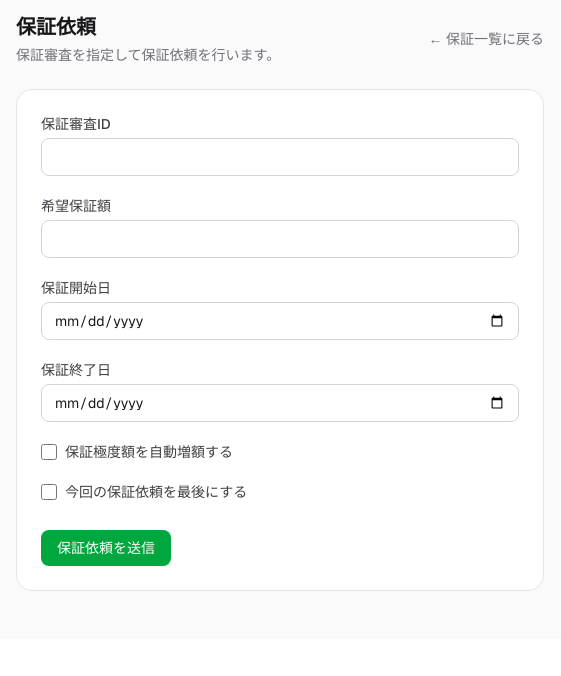
Test: GuaranteeNewPage › APIがエラーを返した場合はエラーメッセージを表示する
The image size is (561, 676).
Type "12345" into the number field labelled "保証審査ID" at (280, 157), box x1=41 y1=138 x2=519 y2=176
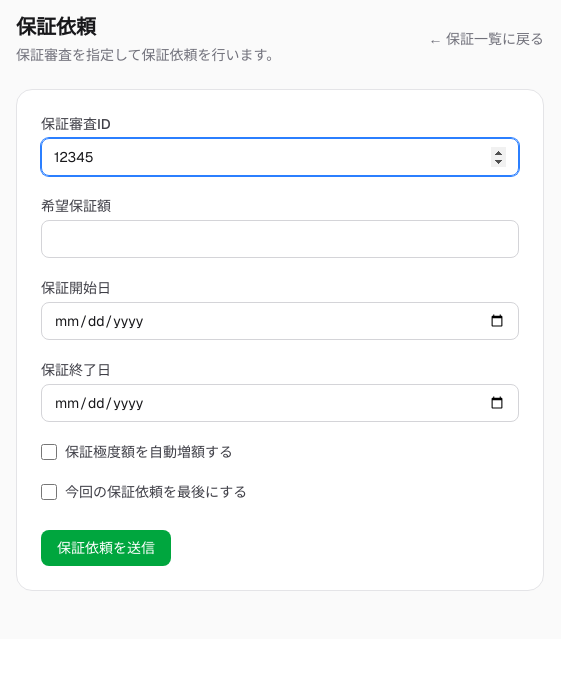
Type "1000000" into the number field labelled "希望保証額" at (280, 239), box x1=41 y1=220 x2=519 y2=258
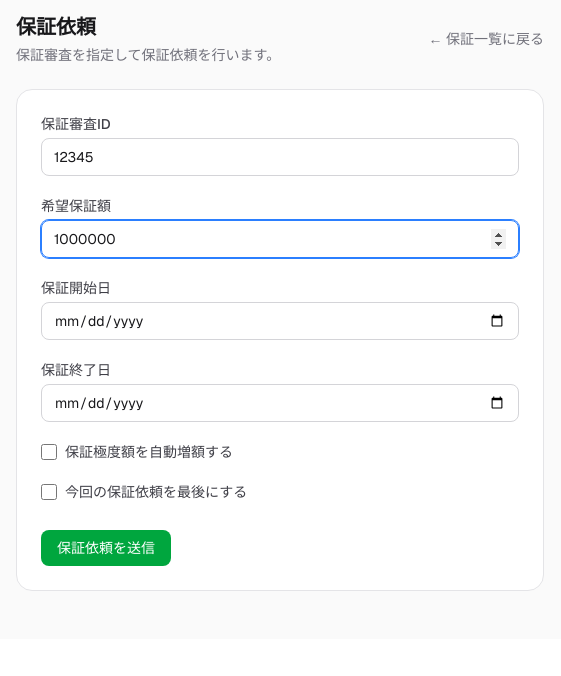
Type "2023-03-27" into the date field labelled "保証開始日" at (280, 321), box x1=41 y1=302 x2=519 y2=340
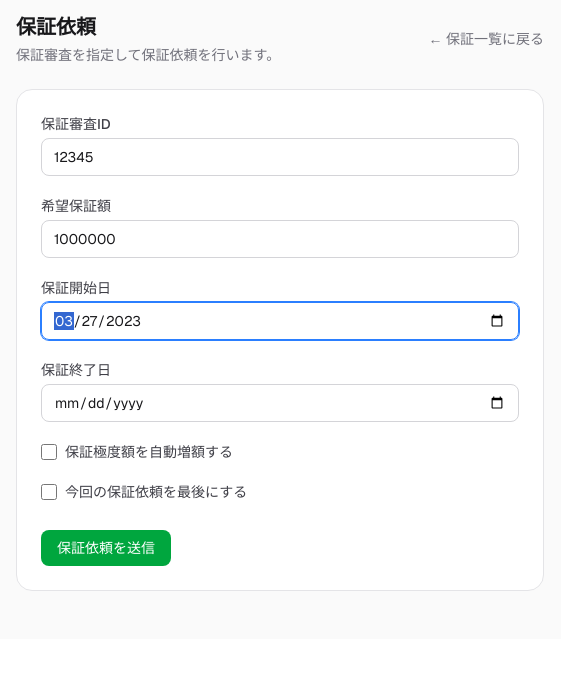
Type "2023-04-27" into the date field labelled "保証終了日" at (280, 403), box x1=41 y1=384 x2=519 y2=422
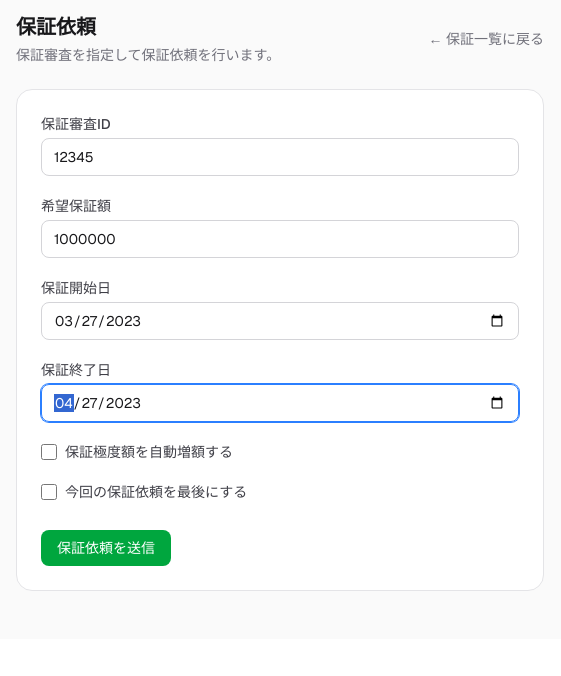
Click the button "保証依頼を送信" at (106, 548), box x1=41 y1=530 x2=171 y2=566
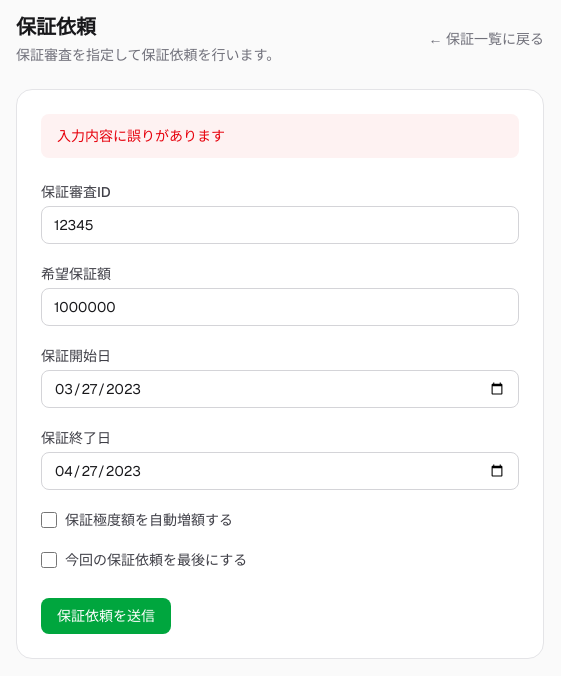
Now the text "入力内容に誤りがあります" is shown, box x1=41 y1=114 x2=519 y2=158
